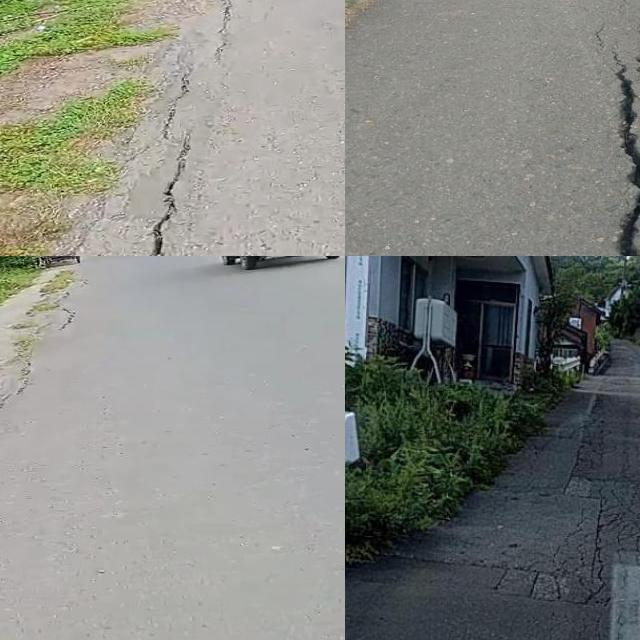Memanjang: (602, 0, 640, 256)
Pinggir: (50, 0, 264, 256)
Retak Buaya: (570, 417, 640, 640)
